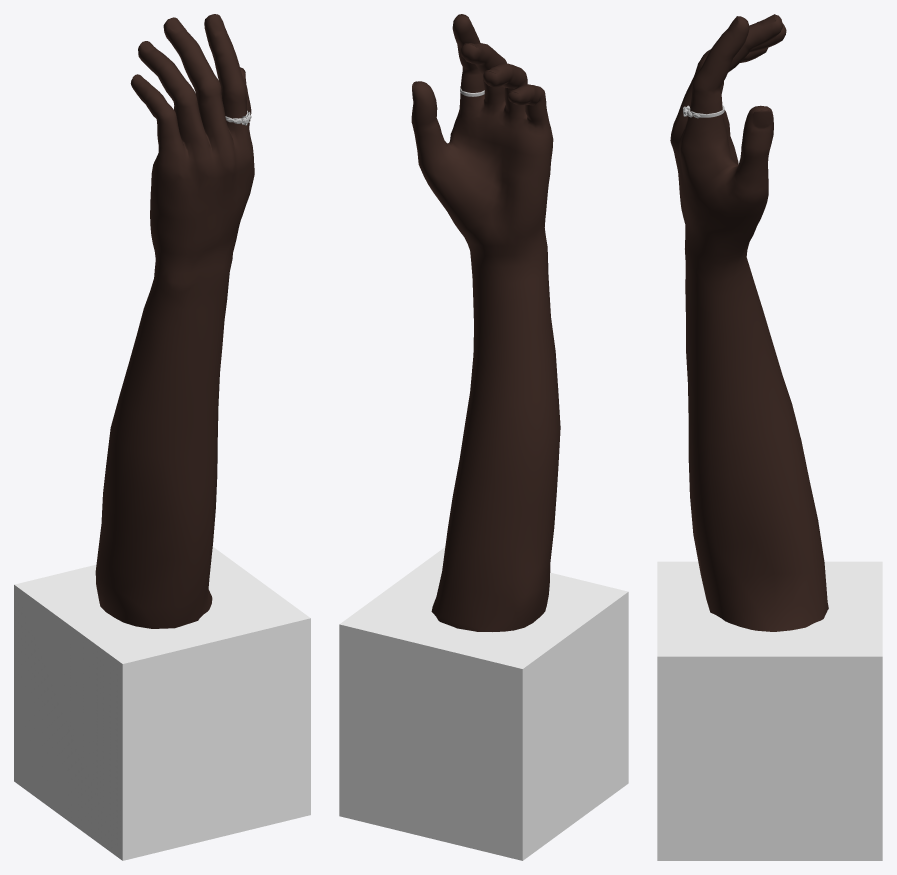
The picture shows the model from 3 angles, left to right: view 1: azimuth 30°, elevation 25°; view 2: azimuth 150°, elevation 25°; view 3: azimuth 270°, elevation 25°; orthographic projection. The views are drawn at different scales.
Parts seen in each view (by area): view 1: Cube.002, CC_Base_Body.002; view 2: Cube.002, CC_Base_Body.002; view 3: Cube.002, CC_Base_Body.002.
Boxes of the visible parts, x1=… form: Cube.002: x1=14, y1=547, x2=310, y2=860; CC_Base_Body.002: x1=95, y1=14, x2=254, y2=628; Cube.002: x1=339, y1=547, x2=628, y2=860; CC_Base_Body.002: x1=411, y1=14, x2=560, y2=631; Cube.002: x1=657, y1=561, x2=882, y2=860; CC_Base_Body.002: x1=670, y1=14, x2=828, y2=631.
Size of the model in its own units: 0.9623 by 3.84 by 0.9623.
